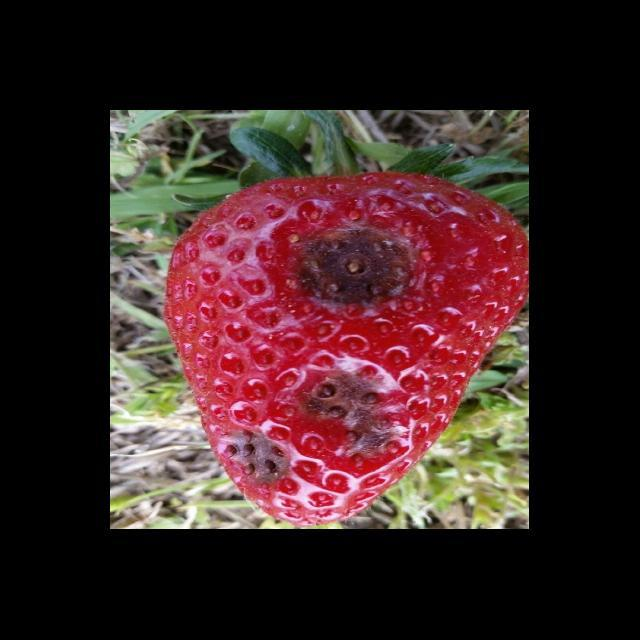Anthracnose Fruit Rot: (213, 217, 430, 495)
